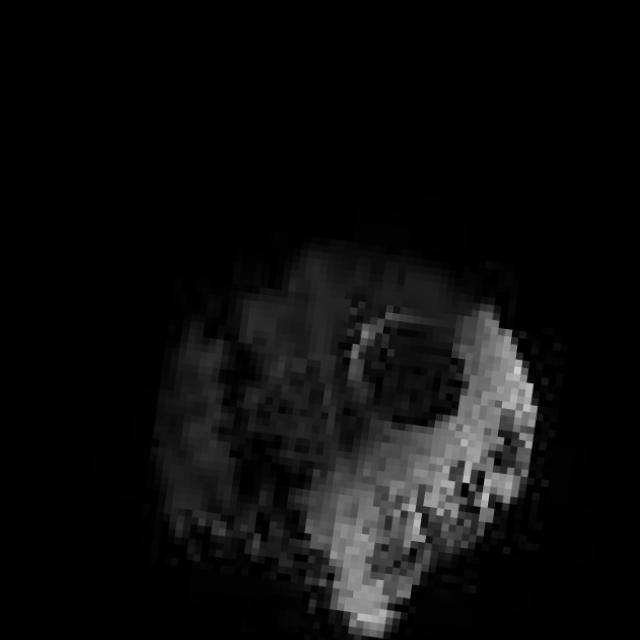Death Star: (113, 216, 563, 640)
